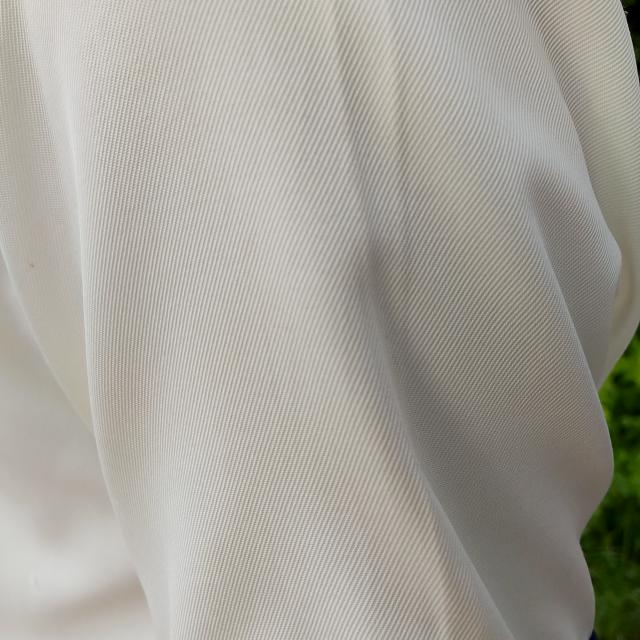education_male_uniform: (12, 2, 625, 640)
